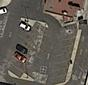parkingspot: (47, 23, 78, 85), (9, 21, 37, 79), (23, 22, 49, 81)
